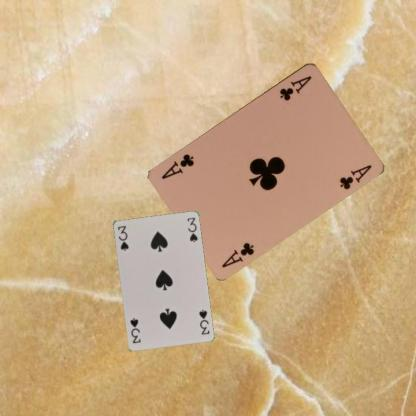3s: (115, 223, 130, 252), (196, 306, 210, 336)
Ac: (276, 72, 314, 102), (219, 240, 256, 269)
